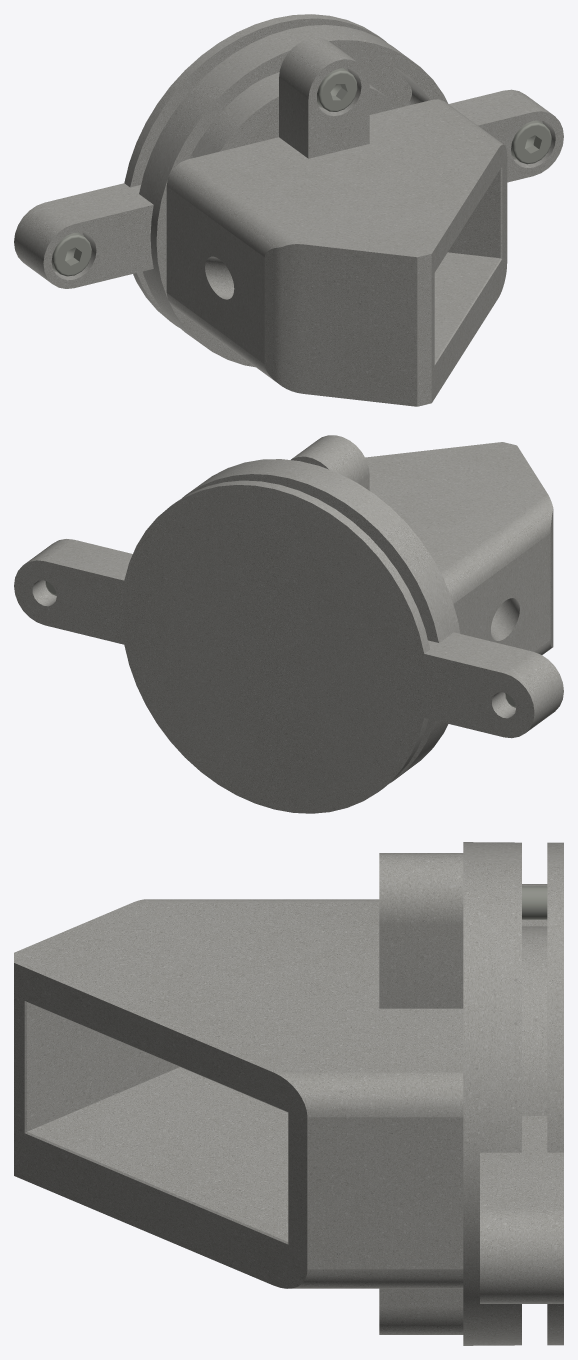
File: sc_mount_visual.glb
3 renders of one model, top to bottom at view 1: azimuth 30°, elevation 25°; view 2: azimuth 150°, elevation 25°; view 3: azimuth 270°, elevation 25°, orthographic. The views are drawn at different scales.
Parts seen in each view (by area): view 1: ISO 4762 - M2 x 8.003; view 2: ISO 4762 - M2 x 8.003; view 3: ISO 4762 - M2 x 8.003.
Part boxes in pixels (bbox=[...]): ISO 4762 - M2 x 8.003: bbox=[14, 14, 563, 406]; ISO 4762 - M2 x 8.003: bbox=[14, 435, 563, 813]; ISO 4762 - M2 x 8.003: bbox=[14, 842, 563, 1345].
Size of the model in its own units: 0.051 by 0.031 by 0.0327.
2 materials, 1 textured.
